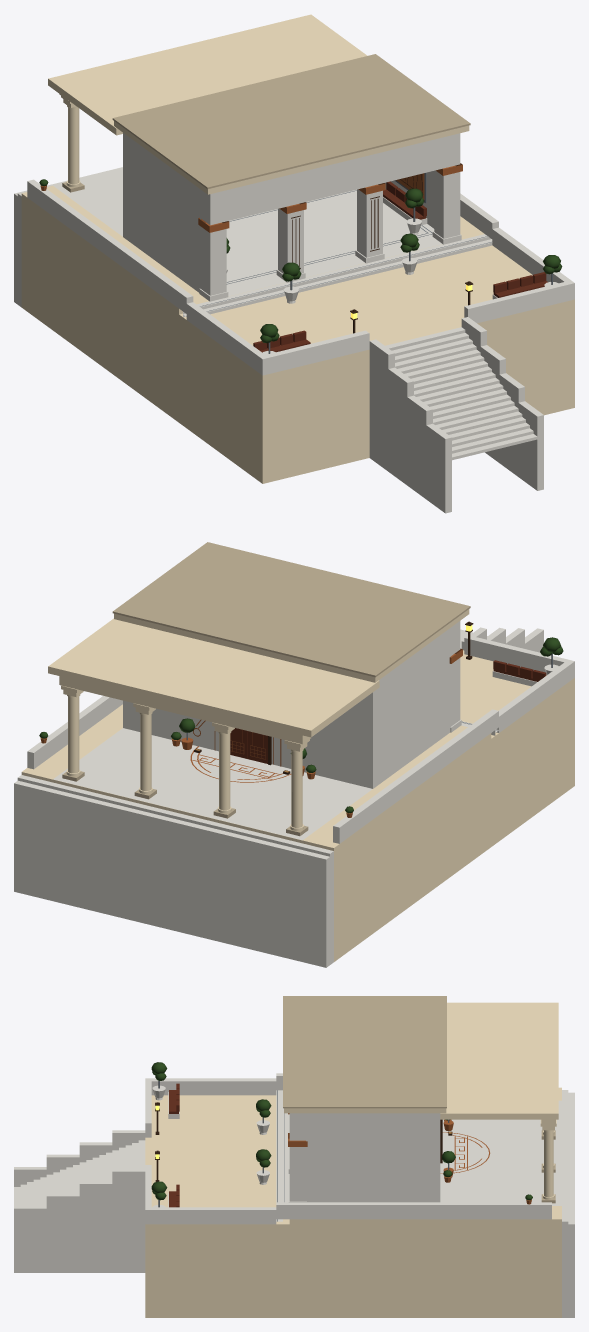
The model's file is belvedere.gltf.
3 views of the same model, one above another, from view 1: azimuth 30°, elevation 25°; view 2: azimuth 150°, elevation 25°; view 3: azimuth 270°, elevation 25° (orthographic). The views are drawn at different scales.
Visible parts, largest first — view 1: belvedere; view 2: belvedere; view 3: belvedere.
Part boxes in pixels (x1,y1,x2,y2): belvedere: (14, 14, 574, 513); belvedere: (14, 542, 574, 967); belvedere: (14, 996, 574, 1317).
Size of the model in its own units: 19.09 by 13.49 by 34.2.
